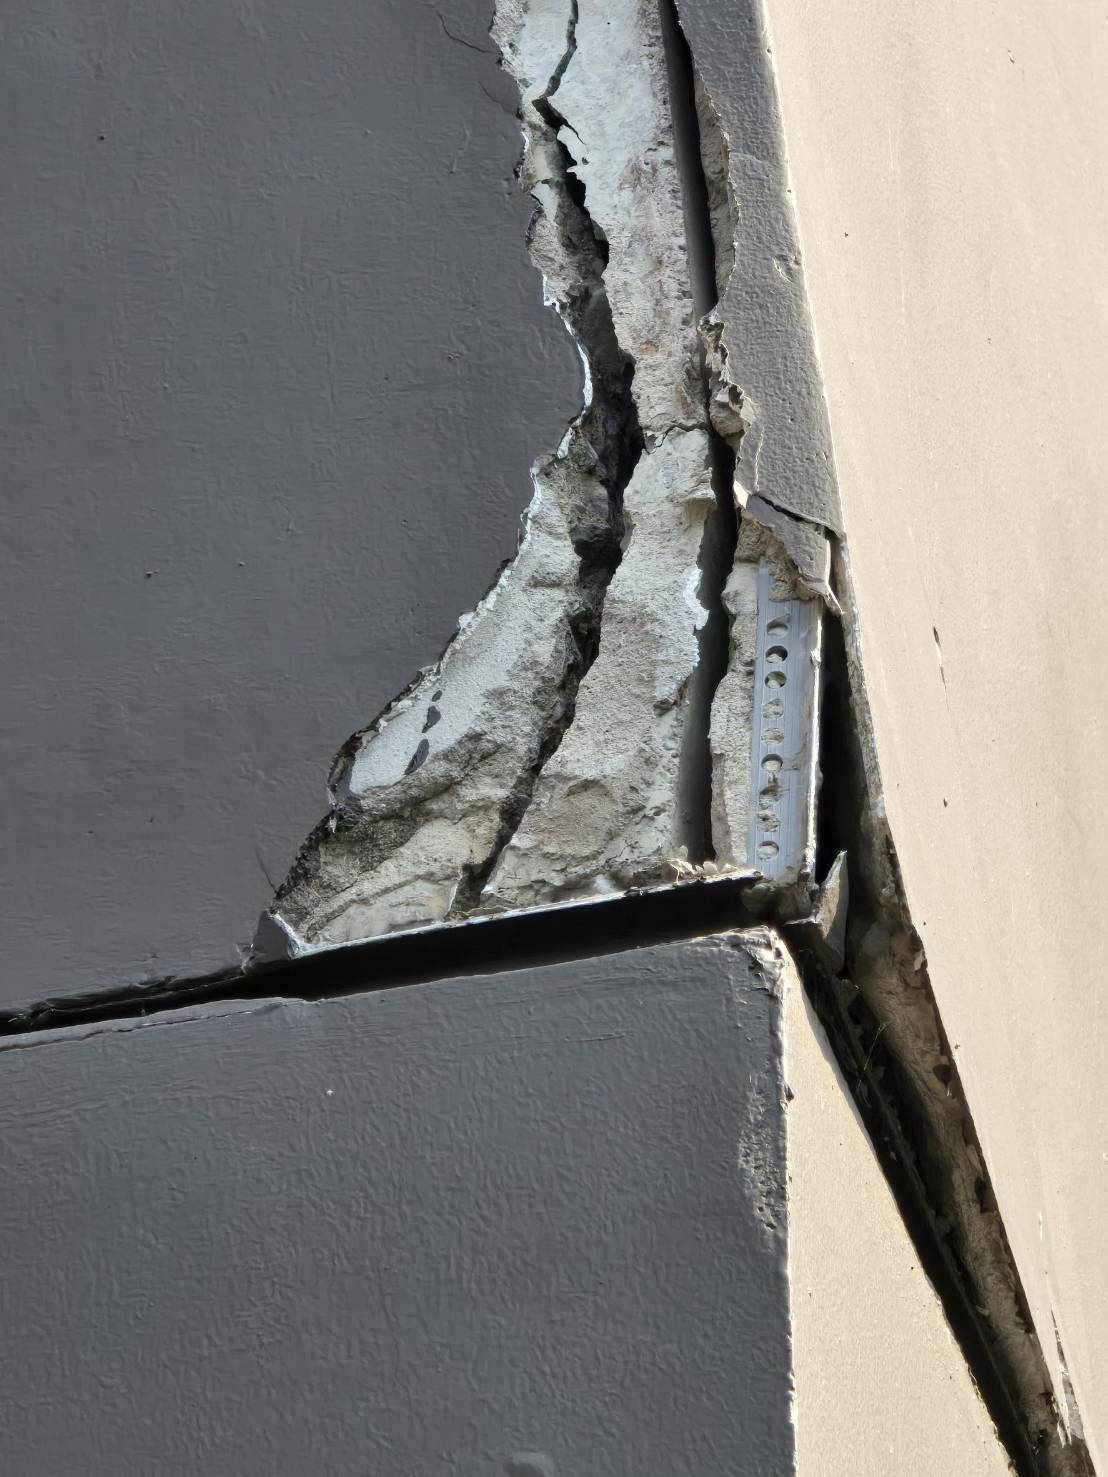High: (220, 3, 1101, 1477)
